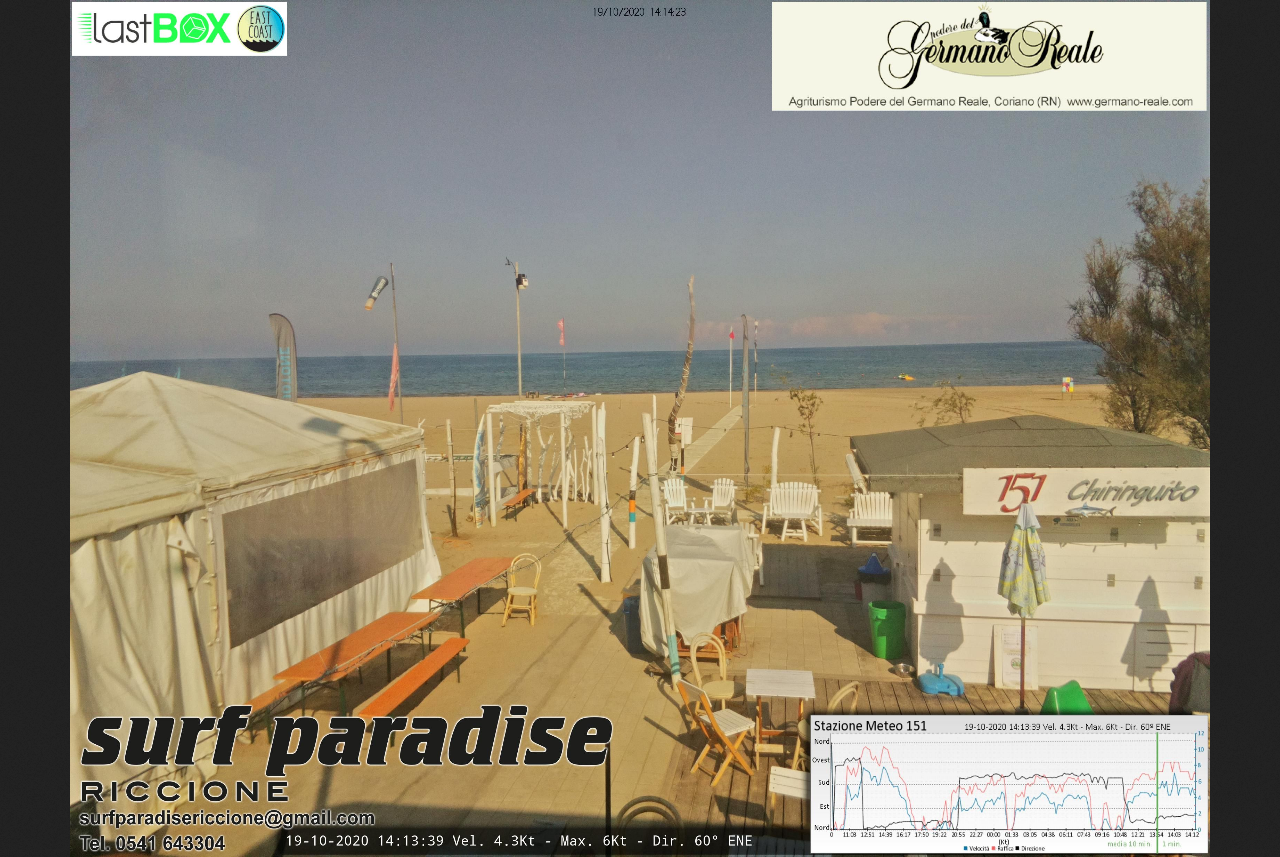no: (379, 329, 408, 409)
